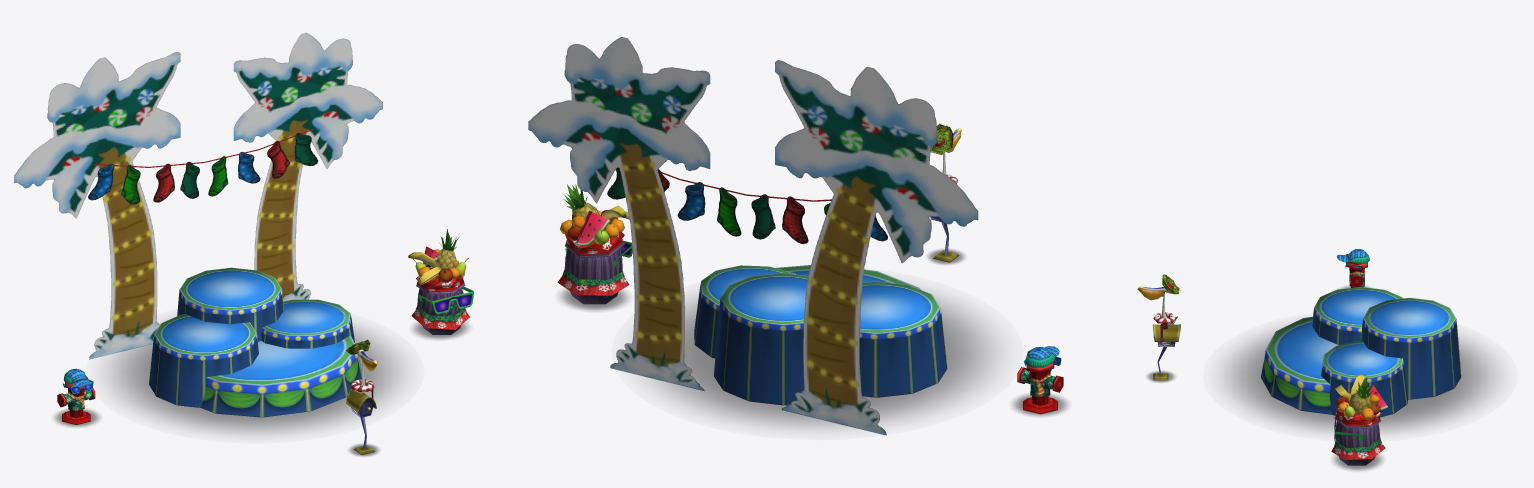
File: stage_winter.glb
3 views of the same model, side by side, from view 1: azimuth 30°, elevation 25°; view 2: azimuth 150°, elevation 25°; view 3: azimuth 270°, elevation 25° (orthographic). The views are drawn at different scales.
Parts seen in each view (by area): view 1: stageProp, stage, dropShadow, decor_high, body_dod_high, hydrant_high, tc_bin_dga_high; view 2: stageProp, stage, dropShadow, decor_high, hydrant_high, tc_bin_dga_high, body_dod_high, tc_dropShadow_dga_high; view 3: stage, dropShadow, decor_high, body_dod_high, tc_bin_dga_high, hydrant_high.
Boxes of the visible parts, x1,y1,x2,y2 form: stageProp: (14, 32, 382, 359); stage: (149, 267, 361, 417); dropShadow: (109, 326, 400, 433); decor_high: (408, 229, 473, 329); body_dod_high: (346, 339, 377, 454); hydrant_high: (57, 368, 95, 424); tc_bin_dga_high: (416, 283, 465, 334); stageProp: (528, 37, 978, 435); stage: (694, 265, 947, 405); dropShadow: (650, 296, 995, 427); decor_high: (557, 184, 632, 295); hydrant_high: (1017, 346, 1063, 414); tc_bin_dga_high: (564, 241, 624, 304); body_dod_high: (930, 123, 961, 262); tc_dropShadow_dga_high: (560, 289, 627, 310); stage: (1261, 287, 1461, 417); dropShadow: (1225, 332, 1495, 432); decor_high: (1331, 374, 1388, 460); body_dod_high: (1137, 274, 1180, 380); tc_bin_dga_high: (1334, 417, 1380, 465); hydrant_high: (1336, 249, 1369, 287).
Bounding box in the file's own units: 27.65 × 18.73 × 23.37.
Materials: 9 (9 with a texture image).
